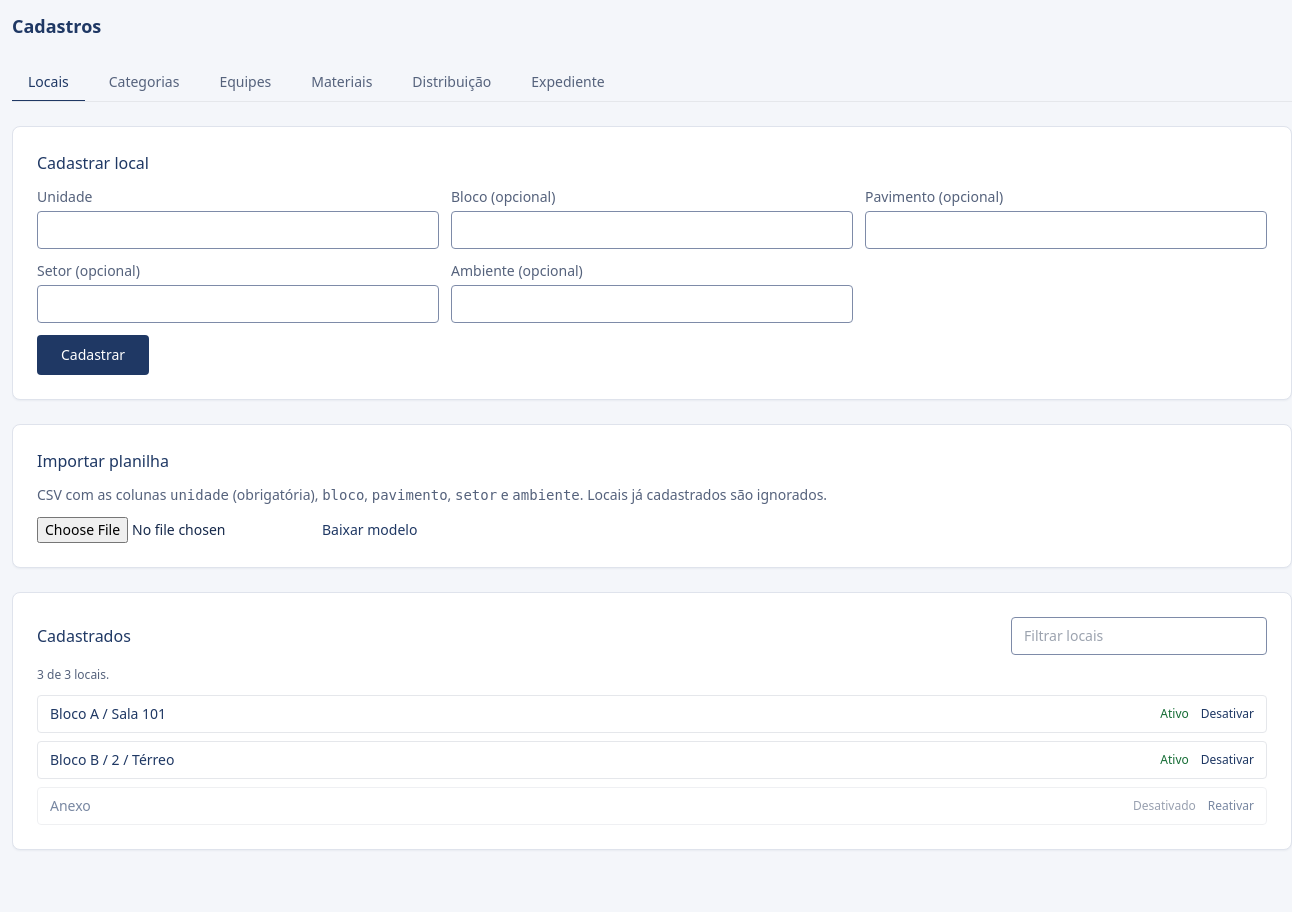
it: Filtro de locais › reduz a lista ao que casa com o termo
This screenshot has width=1292, height=912.
Check: the text "Bloco A / Sala 101" is shown, box [50,704,166,724]
Type "anexo" into the search field with placeholder "Filtrar locais".
click(1139, 636); type("anexo")  # box [1011,617,1267,655]
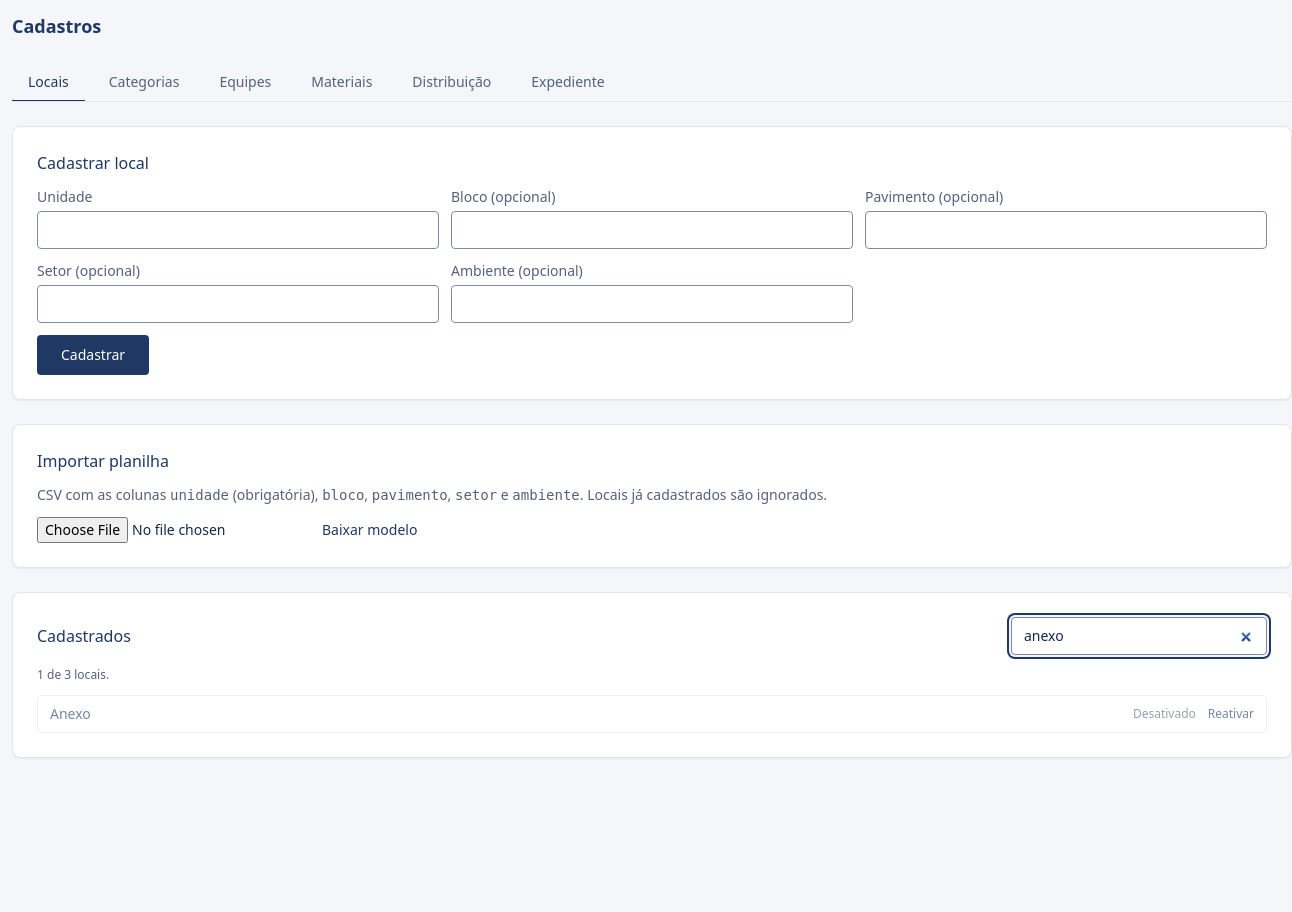
Check: the text "Anexo" is shown, box [50,704,91,724]
Check: the text "1 de 3 locais." is shown, box [37,666,109,683]
Check: the text "Bloco A / Sala 101" is gone
